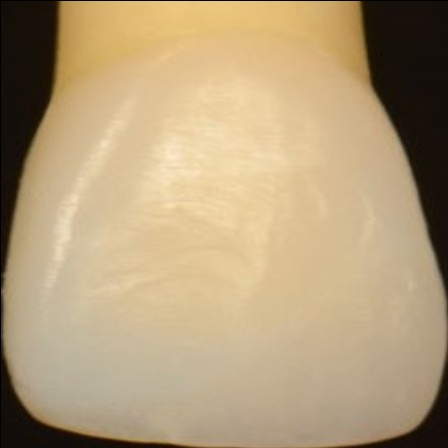coin_1: (369, 83, 389, 103)
coin_2: (419, 200, 439, 220)
coin_3: (52, 96, 72, 116)
coin_4: (23, 165, 43, 185)
